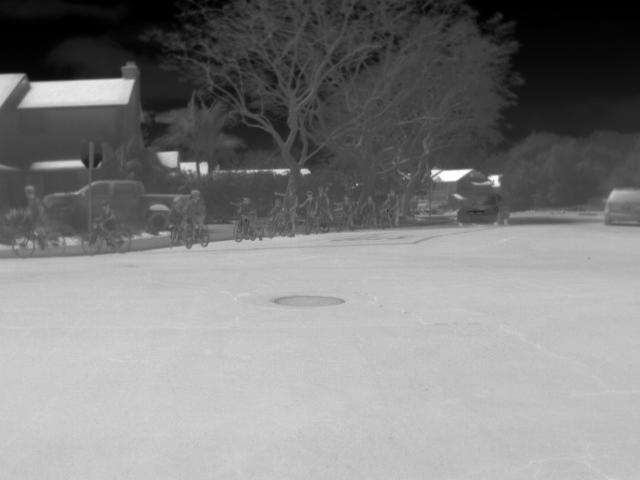car: (89, 179, 183, 234), (456, 192, 511, 228), (40, 184, 89, 214), (602, 185, 637, 226)
person: (21, 184, 54, 248), (94, 200, 122, 246), (234, 195, 265, 233), (186, 188, 207, 236), (380, 188, 402, 230), (277, 187, 297, 225), (355, 192, 381, 220), (331, 192, 354, 220), (169, 195, 187, 229), (297, 190, 316, 220)
